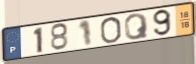1: (77, 19, 94, 49), (32, 26, 44, 55)
8: (49, 22, 70, 52)
9: (151, 9, 173, 38)
O: (99, 15, 123, 45)
Q: (123, 12, 150, 41)
